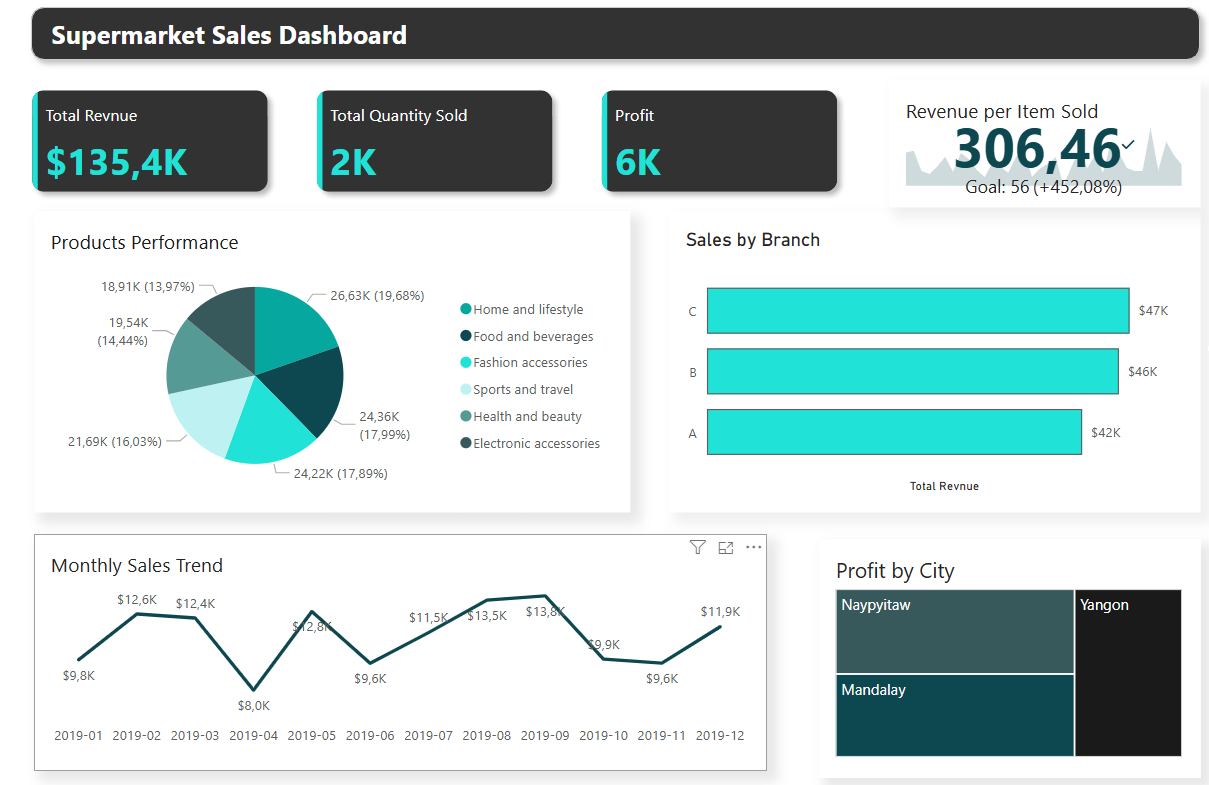

The dashboard page shown, as its layout file describes it:
{"tool":"powerbi","page":{"name":"Page 2","canvas":[1280,720],"ordinal":0},"visuals":[{"type":"cardVisual","fields":{"Data":["supermarket.Total Revnue","supermarket.Total Quantity","supermarket.Profit"]},"box":[17.9,63.6,778.2,149.6],"z":0},{"type":"clusteredBarChart","title":"Sales by Branch","fields":{"Category":["supermarket.Branch"],"Y":["supermarket.Total Revnue"]},"box":[615.2,198.8,476.4,270.4],"z":1000},{"type":"shape","box":[34,6.3,1066.6,67.2],"z":2000},{"type":"pieChart","title":"Products Performance","fields":{"Category":["supermarket.Product line"],"Y":["supermarket.Total Revnue"]},"box":[46.6,198.8,533.7,270.4],"z":3000},{"type":"treemap","fields":{"Group":["supermarket.City"],"Values":["supermarket.Profit"]},"box":[749.6,492.5,342.1,214],"z":4000},{"type":"lineChart","title":"Monthly Sales Trend","fields":{"Category":["supermarket.MonthYear"],"Y":["supermarket.Total Revnue"]},"box":[46.6,488.1,656.4,212.2],"z":5000},{"type":"kpi","title":"Revenue per Item Sold","fields":{"Indicator":["supermarket.Avg Sales per Transaction"],"TrendLine":["supermarket.Date"],"Goal":["supermarket.Average Products Price"]},"box":[812.2,81.5,279.4,113.7],"z":6000}]}

Visuals, with their boxes on the page's 1280x720 design canvas (x1, y1, x2, y2). These are canvas units, not pixel positions in the 1209x785 screenshot, which may show the page scaled, cropped or inside an application window:
cardVisual - supermarket.Total Revnue x supermarket.Total Quantity: [18, 64, 796, 213]
"Sales by Branch" clusteredBarChart: [615, 199, 1092, 469]
shape: [34, 6, 1101, 74]
"Products Performance" pieChart: [47, 199, 580, 469]
treemap - supermarket.City x supermarket.Profit: [750, 492, 1092, 706]
"Monthly Sales Trend" lineChart: [47, 488, 703, 700]
"Revenue per Item Sold" kpi: [812, 82, 1092, 195]
